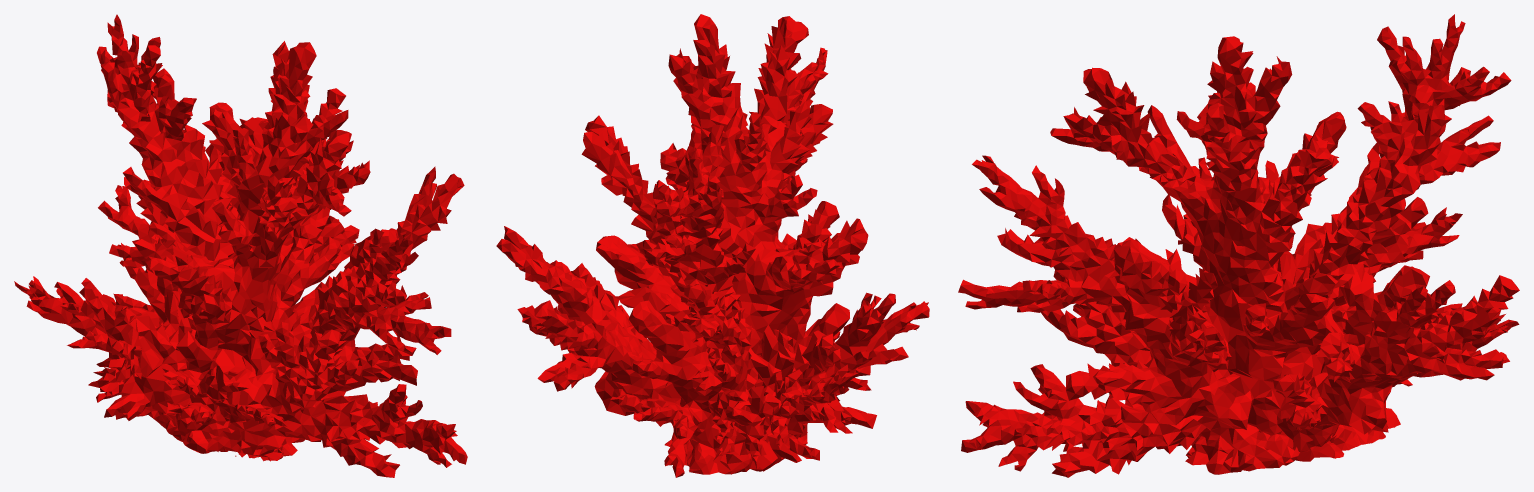
Rendered from coral-1.glb.
3 views of the same model, side by side, from view 1: azimuth 30°, elevation 25°; view 2: azimuth 150°, elevation 25°; view 3: azimuth 270°, elevation 25° (orthographic). The views are drawn at different scales.
Parts seen in each view (by area): view 1: coral-1; view 2: coral-1; view 3: coral-1.
Part boxes in pixels (<box>): coral-1: <box>14,14,467,477</box>; coral-1: <box>496,14,929,477</box>; coral-1: <box>958,14,1519,477</box>.
Bounding box in the file's own units: 122 × 131 × 149.
